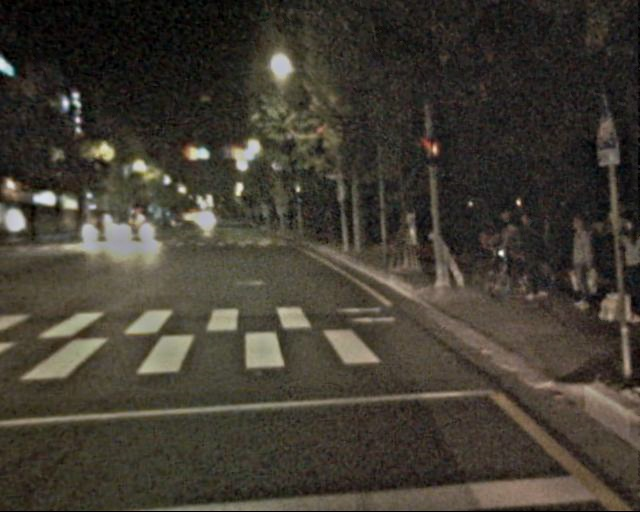person: (491, 210, 542, 302), (561, 214, 600, 309), (609, 214, 640, 325)
